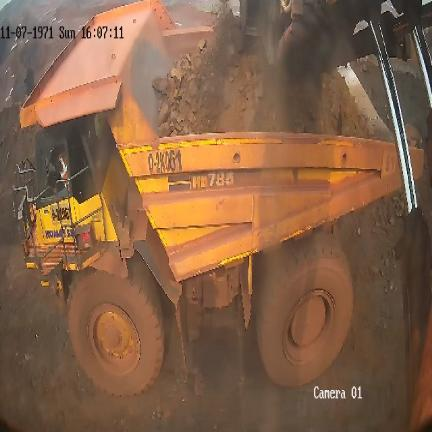pile: (153, 12, 375, 137)
